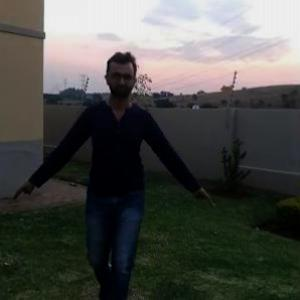land: (31, 62, 190, 276)
